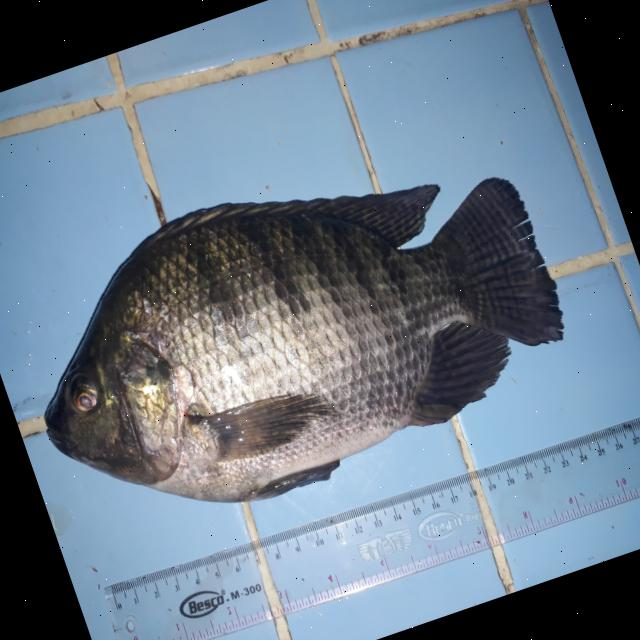ikan: (0, 104, 593, 562)
